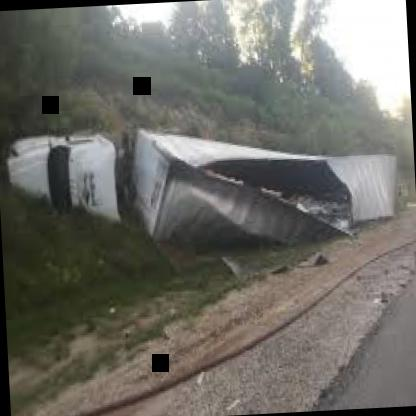accident: (5, 113, 406, 274)
